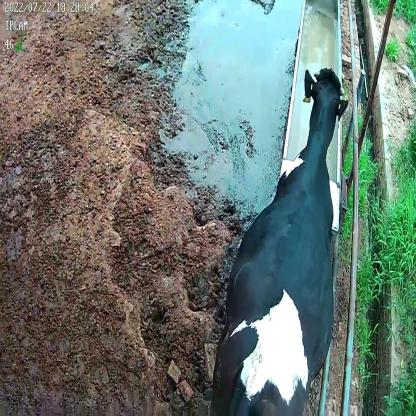cow: (209, 63, 350, 416)
